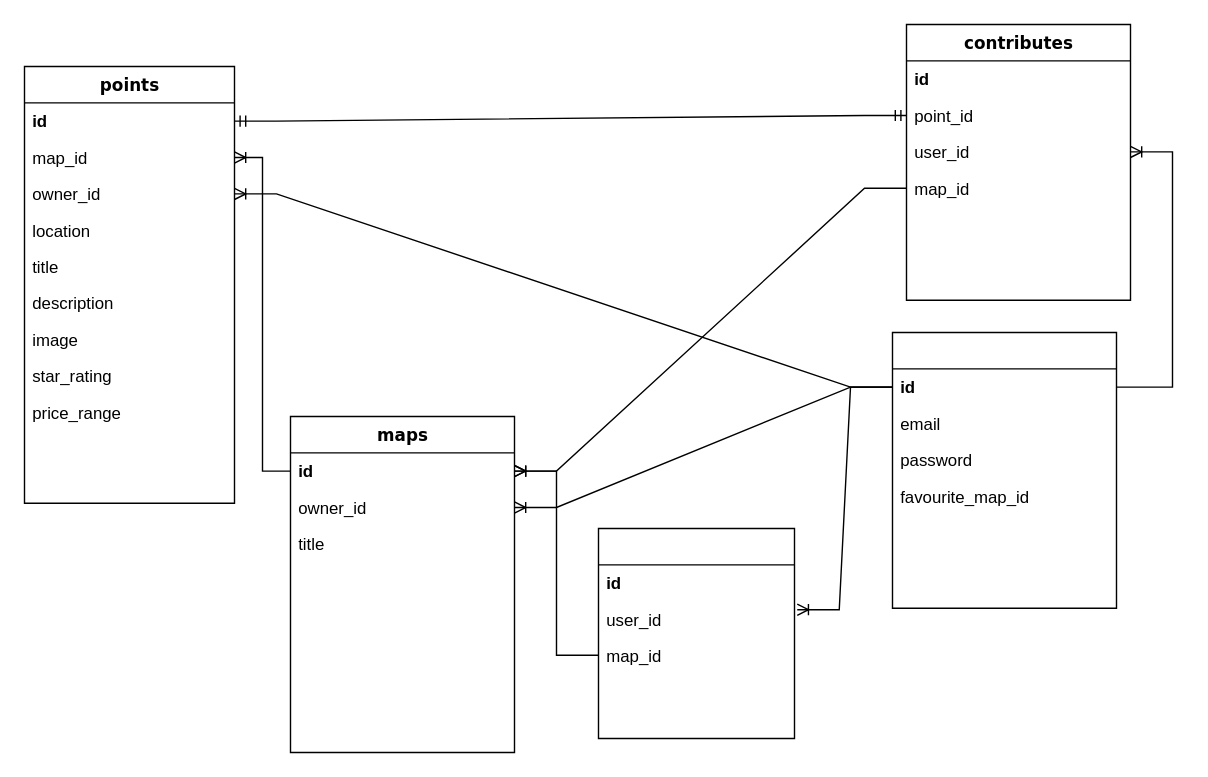
This 1208x777 diagram has some shape labels left out. The shapes that lost their labels are listed below. From the top down, each one's box as (x1, y1, x2, y2) in pixels, then its label:
(891, 331, 1116, 608): users
(597, 527, 794, 738): favourited_maps
